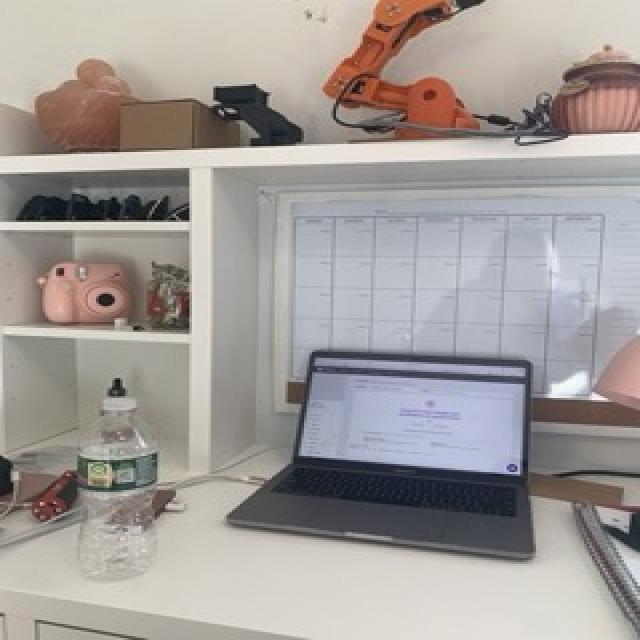water_bottle: (70, 395, 164, 584)
